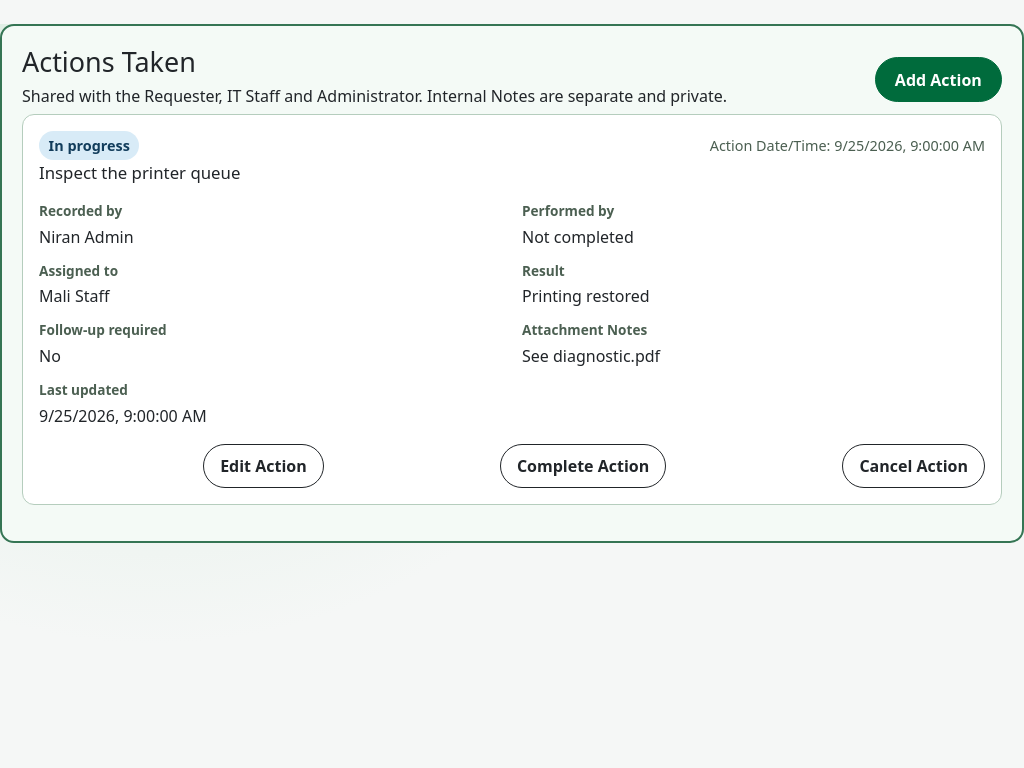
Test: moves focus to the Actions heading when completion removes its initiating control
Expected: the text "Inspect the printer queue" is shown, x1=39 y1=161 x2=240 y2=184
Click the button "Complete Action": (583, 466) x1=500 y1=444 x2=666 y2=488
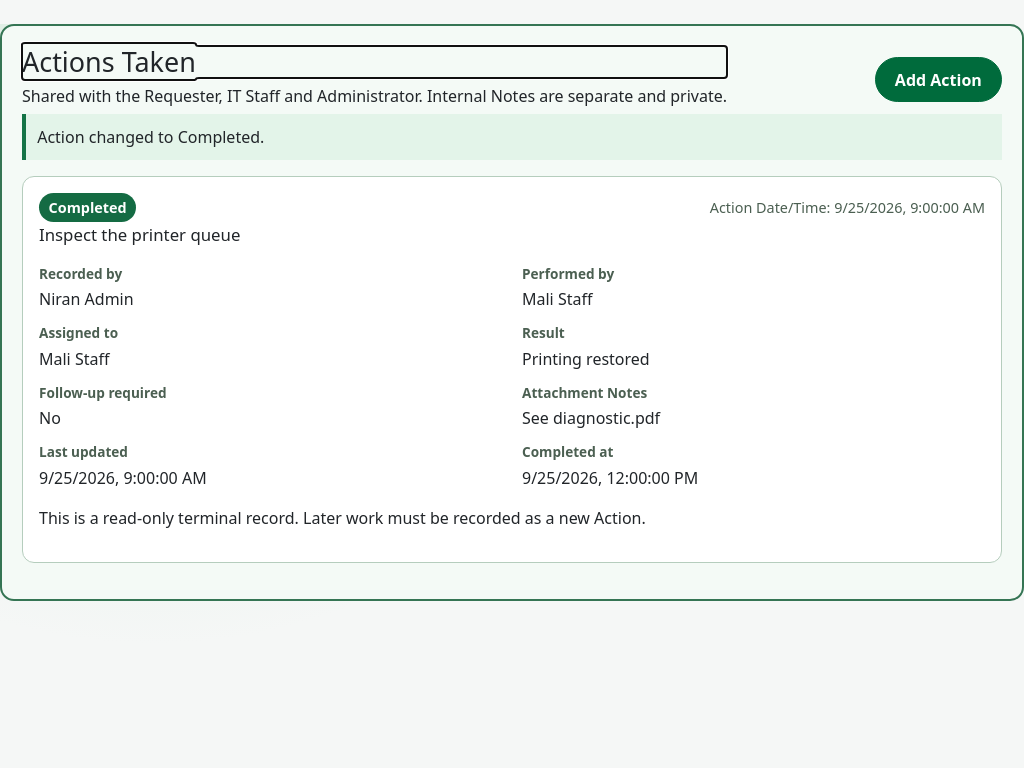
Result: the text "Completed" is shown at x1=39 y1=193 x2=136 y2=222
Result: the button "Complete Action" is gone
